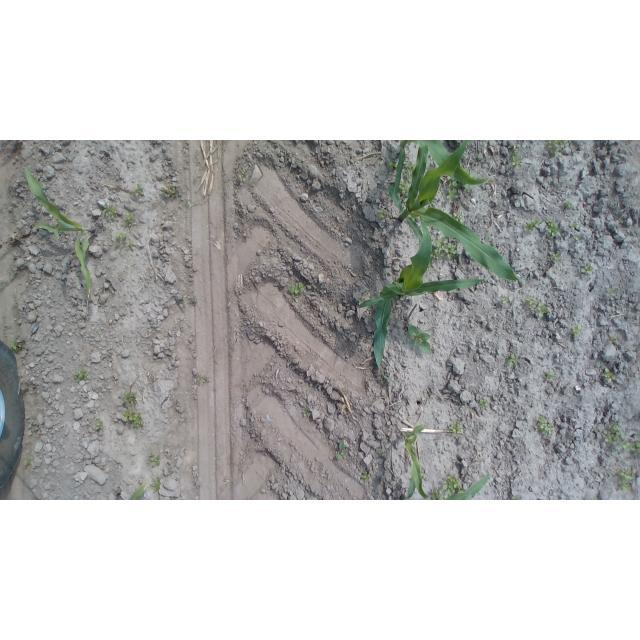Maize: (357, 213, 493, 383), (386, 141, 531, 282), (25, 165, 98, 303), (395, 140, 496, 197), (401, 422, 429, 500), (445, 472, 491, 500), (129, 481, 151, 500), (117, 492, 124, 500)
Weeds: (603, 420, 629, 448), (408, 325, 433, 353), (523, 295, 550, 318), (433, 236, 458, 260), (122, 408, 144, 428), (442, 473, 463, 493), (536, 415, 555, 435), (546, 140, 568, 156), (619, 469, 634, 491), (544, 219, 560, 238), (523, 216, 542, 232), (335, 439, 349, 460), (112, 231, 128, 249), (288, 282, 306, 295), (399, 181, 410, 202), (160, 186, 179, 198), (103, 203, 119, 217), (72, 369, 88, 383), (429, 486, 445, 500), (571, 323, 586, 337), (147, 453, 161, 467), (123, 211, 136, 226), (124, 390, 137, 404), (506, 354, 519, 367), (10, 340, 23, 352), (449, 422, 461, 435), (512, 156, 522, 171), (446, 188, 458, 200), (604, 369, 617, 380), (135, 184, 146, 197), (564, 196, 575, 208), (582, 263, 594, 274), (551, 252, 563, 263), (360, 470, 371, 481), (544, 371, 556, 381), (153, 478, 161, 493), (189, 295, 199, 306), (479, 397, 489, 408), (197, 376, 208, 386), (606, 288, 618, 297), (405, 162, 413, 175), (376, 208, 386, 218), (454, 212, 464, 221), (631, 441, 640, 451), (96, 419, 103, 430), (388, 162, 397, 170), (448, 181, 458, 188), (503, 297, 512, 304), (290, 294, 298, 301), (513, 146, 520, 154), (576, 235, 583, 243), (303, 408, 310, 416), (569, 221, 576, 228), (184, 201, 191, 208), (617, 217, 624, 223), (610, 337, 617, 343), (128, 240, 134, 247), (238, 172, 244, 178), (181, 294, 186, 301), (469, 174, 475, 179), (512, 496, 519, 500), (357, 297, 364, 301), (465, 169, 470, 174), (465, 184, 470, 189), (25, 461, 29, 467), (140, 387, 144, 391)
